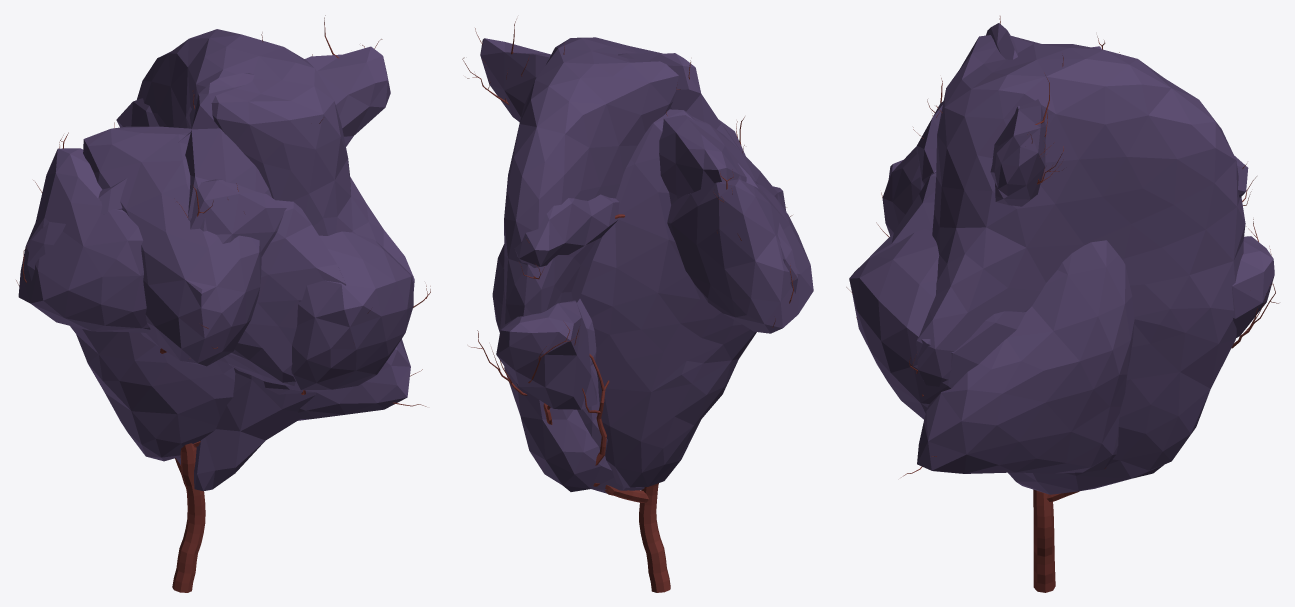
Rendered from tree-1.fbx.
3 renders of one model, left to right at view 1: azimuth 30°, elevation 25°; view 2: azimuth 150°, elevation 25°; view 3: azimuth 270°, elevation 25°, orthographic. The views are drawn at different scales.
Parts seen in each view (by area): view 1: tree10; view 2: tree10; view 3: tree10.
Boxes of the visible parts, x1,y1,x2,y2 form: tree10: [16, 15, 430, 592]; tree10: [462, 19, 813, 592]; tree10: [846, 16, 1278, 592].
Bounding box in the file's own units: 436 × 657 × 441.
